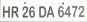character: (2, 5, 11, 19), (38, 5, 47, 18), (46, 5, 55, 18), (11, 5, 19, 18), (28, 5, 36, 18), (64, 5, 72, 18), (57, 6, 65, 18), (78, 5, 85, 18), (22, 6, 29, 18), (71, 5, 77, 17)
